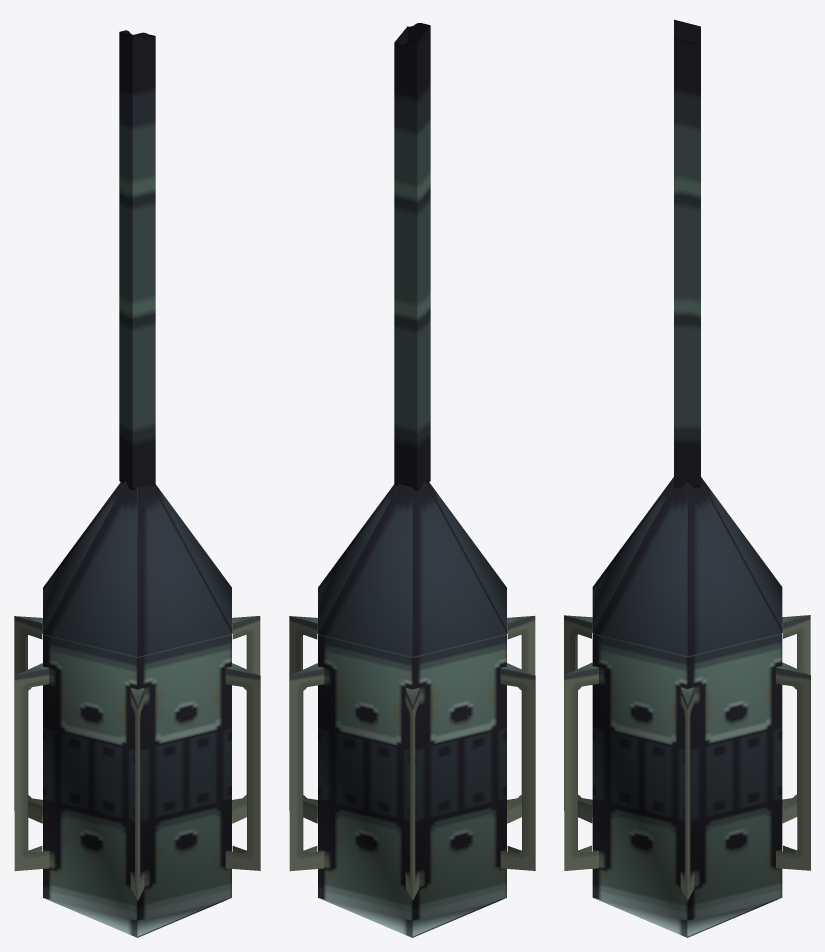
The model's file is Rotating_Trap.obj.
3 renders of one model, left to right at view 1: azimuth 30°, elevation 25°; view 2: azimuth 150°, elevation 25°; view 3: azimuth 270°, elevation 25°, orthographic.
Visible parts, largest first — view 1: Mesh; view 2: Mesh; view 3: Mesh.
Boxes of the visible parts, x1,y1,x2,y2 form: Mesh: (14,30,260,937); Mesh: (289,23,535,937); Mesh: (564,19,810,937).
Size of the model in its own units: 53.3 by 190 by 46.2.
Materials: 1 (1 with a texture image).
